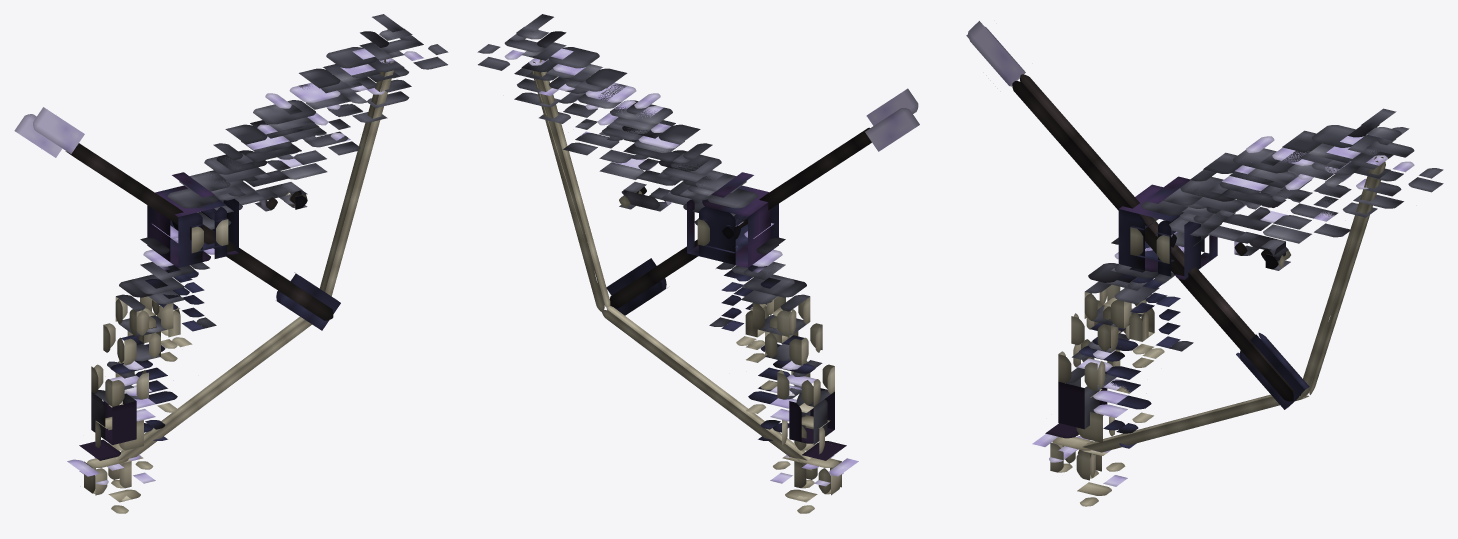
File: raven_bow_pulling_2.obj
3 views of the same model, side by side, from view 1: azimuth 30°, elevation 25°; view 2: azimuth 150°, elevation 25°; view 3: azimuth 330°, elevation 25° (orthographic). The views are drawn at different scales.
Visible parts, largest first — view 1: lit, fire; view 2: lit, fire; view 3: lit, fire.
Boxes of the visible parts, x1,y1,x2,y2 form: lit: [14, 14, 448, 513]; fire: [172, 208, 340, 330]; lit: [477, 14, 919, 513]; fire: [606, 214, 747, 315]; lit: [966, 21, 1443, 506]; fire: [1130, 222, 1309, 409].
Bounding box in the file's own units: 1.11 × 1.09 × 0.15.
